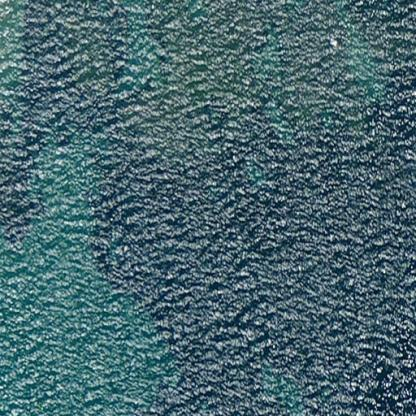ship: (321, 30, 345, 53)
